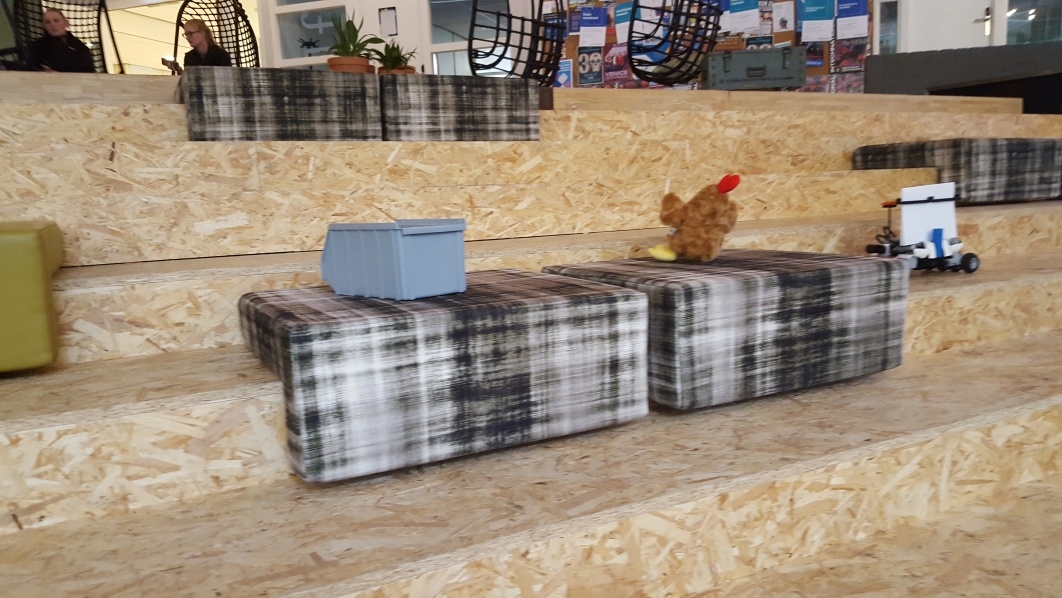beam: (929, 224, 945, 260)
chicken: (649, 173, 740, 262)
tray: (316, 216, 469, 302)
